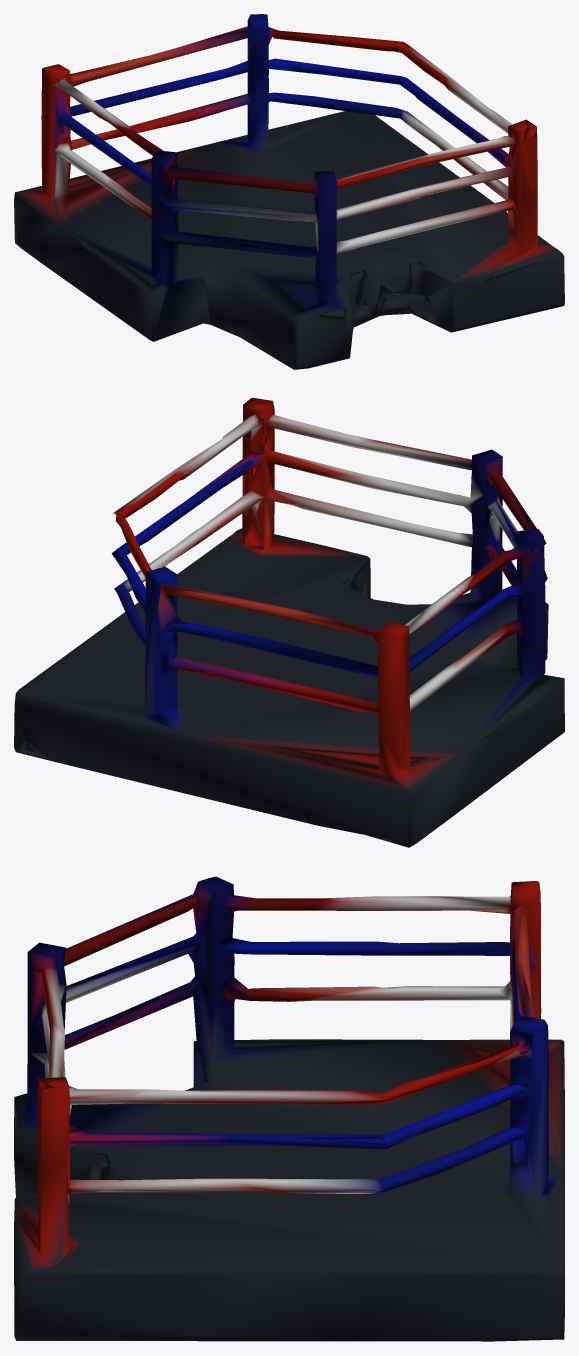
File: gen3d-boxing-ring-lod1.glb
The picture shows the model from 3 angles, top to bottom: view 1: azimuth 30°, elevation 25°; view 2: azimuth 150°, elevation 25°; view 3: azimuth 270°, elevation 25°; orthographic projection. The views are drawn at different scales.
Parts seen in each view (by area): view 1: part_0; view 2: part_0; view 3: part_0.
Part boxes in pixels (x1=…): part_0: x1=14, y1=14, x2=564, y2=369; part_0: x1=14, y1=398, x2=564, y2=847; part_0: x1=14, y1=876, x2=564, y2=1341.
Bounding box in the file's own units: 2.05 × 0.9989 × 2.05.
